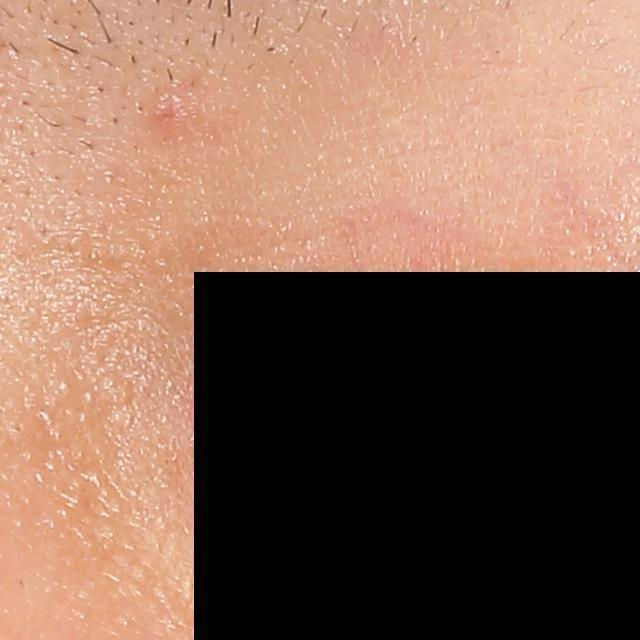papule: (149, 88, 199, 138)
